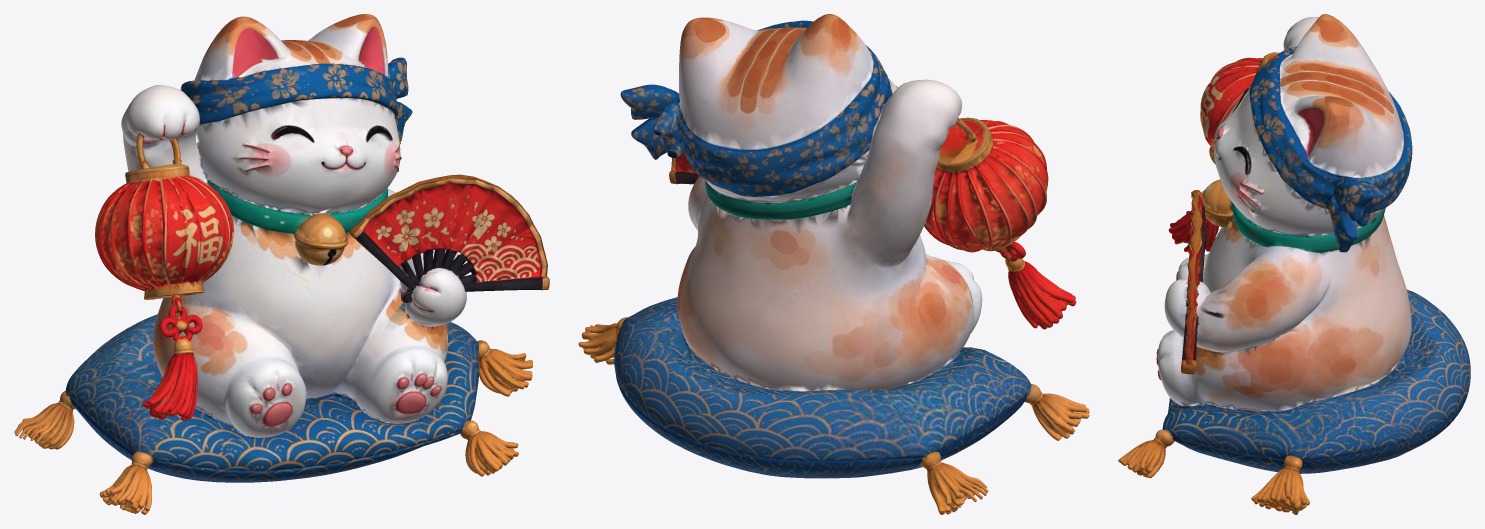
The model's file is lucky-lantern-cat-mobile.glb.
3 renders of one model, left to right at view 1: azimuth 30°, elevation 25°; view 2: azimuth 150°, elevation 25°; view 3: azimuth 270°, elevation 25°, orthographic. The views are drawn at different scales.
Parts seen in each view (by area): view 1: mesh_node; view 2: mesh_node; view 3: mesh_node.
Part boxes in pixels (x1,y1,x2,y2): mesh_node: (14, 14, 549, 514); mesh_node: (578, 14, 1089, 514); mesh_node: (1118, 14, 1470, 514).
Bounding box in the file's own units: 0.227 × 0.2 × 0.1627.
1 material, 1 textured.
